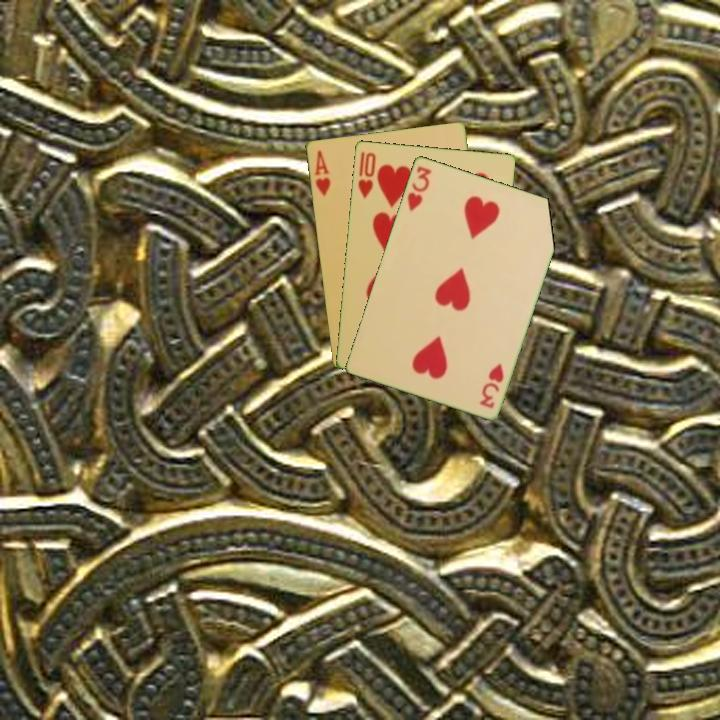10h: (354, 149, 378, 201)
3h: (403, 162, 434, 214), (476, 359, 507, 411)
Ah: (311, 146, 333, 199)
